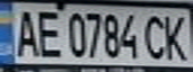0: (63, 8, 87, 59)
4: (118, 10, 142, 60)
7: (81, 8, 103, 59)
8: (103, 9, 121, 60)
A: (9, 6, 39, 57)
C: (139, 11, 169, 61)
E: (33, 6, 63, 58)
K: (160, 11, 193, 62)
